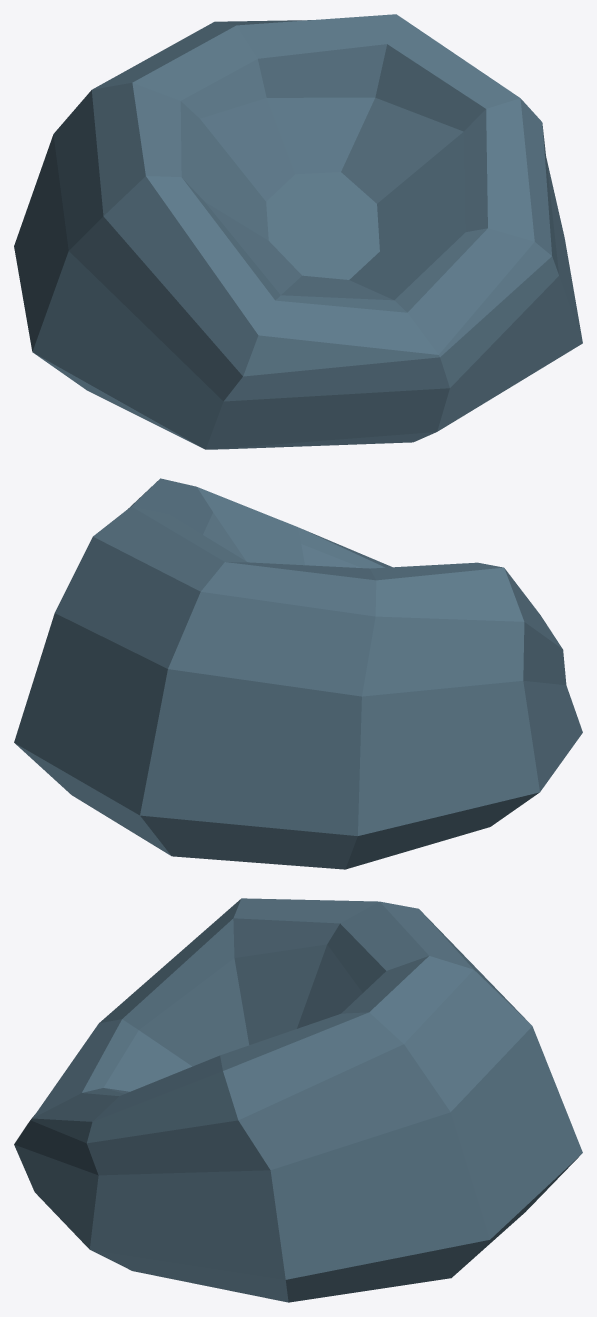
Rendered from 10_beanbag_blue.glb.
3 renders of one model, top to bottom at view 1: azimuth 30°, elevation 25°; view 2: azimuth 150°, elevation 25°; view 3: azimuth 270°, elevation 25°, orthographic. The views are drawn at different scales.
Visible parts, largest first — view 1: beanbag_blue; view 2: beanbag_blue; view 3: beanbag_blue.
Part boxes in pixels (x1,y1,x2,y2): beanbag_blue: [14, 14, 582, 449]; beanbag_blue: [14, 478, 582, 869]; beanbag_blue: [14, 898, 582, 1302].
Bounding box in the file's own units: 1.69 × 0.8727 × 1.69.
